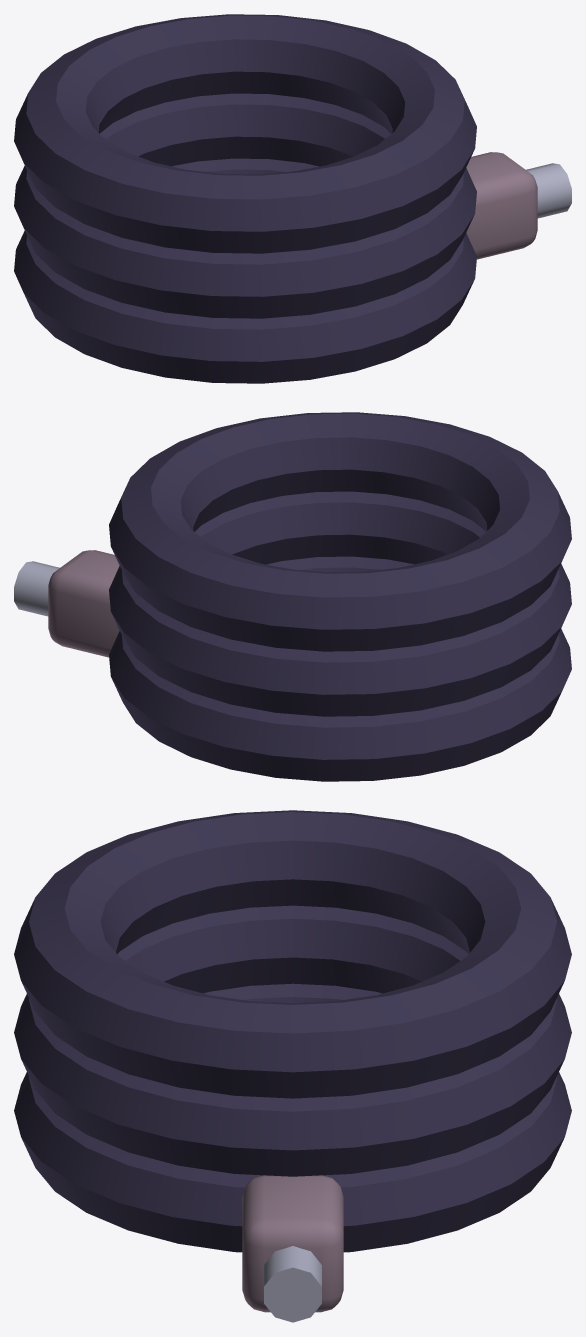
Rendered from part_cable.glb.
The picture shows the model from 3 angles, top to bottom: view 1: azimuth 30°, elevation 25°; view 2: azimuth 150°, elevation 25°; view 3: azimuth 270°, elevation 25°; orthographic projection. The views are drawn at different scales.
Visible parts, largest first — view 1: part_cable; view 2: part_cable; view 3: part_cable.
Boxes of the visible parts, x1,y1,x2,y2 form: part_cable: (14,14,571,383); part_cable: (14,412,571,781); part_cable: (14,810,571,1322).
Size of the model in its own units: 1.41 by 0.54 by 1.1.
